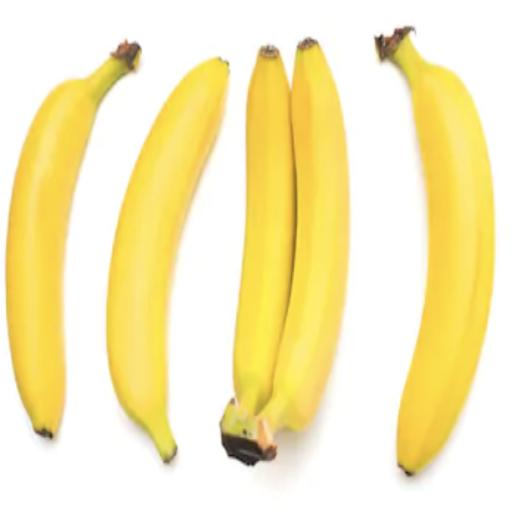banana: (376, 27, 495, 475), (6, 43, 140, 437), (108, 59, 229, 463), (238, 38, 349, 464), (221, 47, 296, 453)
